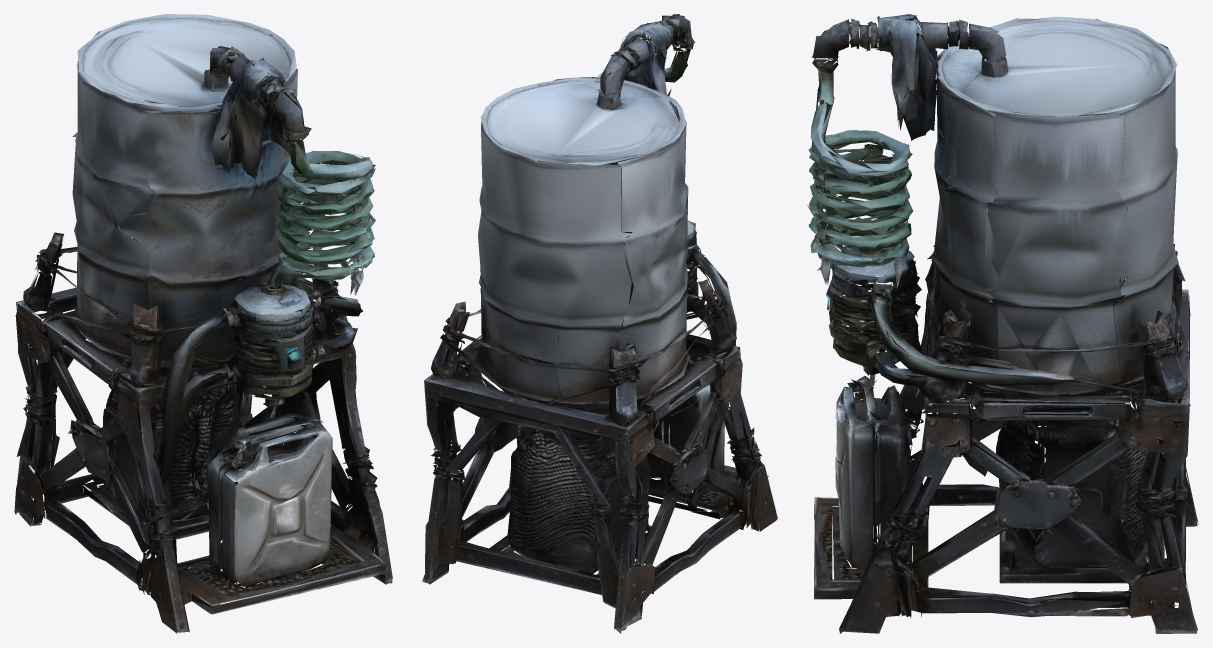
The model's file is life_hydro_rack.glb.
The picture shows the model from 3 angles, left to right: view 1: azimuth 30°, elevation 25°; view 2: azimuth 150°, elevation 25°; view 3: azimuth 270°, elevation 25°; orthographic projection. The views are drawn at different scales.
Visible parts, largest first — view 1: node_0; view 2: node_0; view 3: node_0.
Boxes of the visible parts, x1=… form: node_0: x1=14, y1=14, x2=393, y2=633; node_0: x1=422, y1=14, x2=777, y2=633; node_0: x1=807, y1=14, x2=1198, y2=633.
Size of the model in its own units: 0.443 by 0.9652 by 0.606.
Materials: 1 (1 with a texture image).
